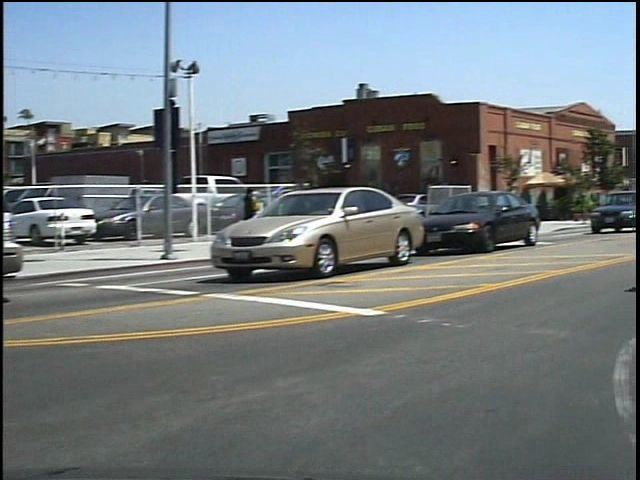person: (245, 179, 271, 242)
